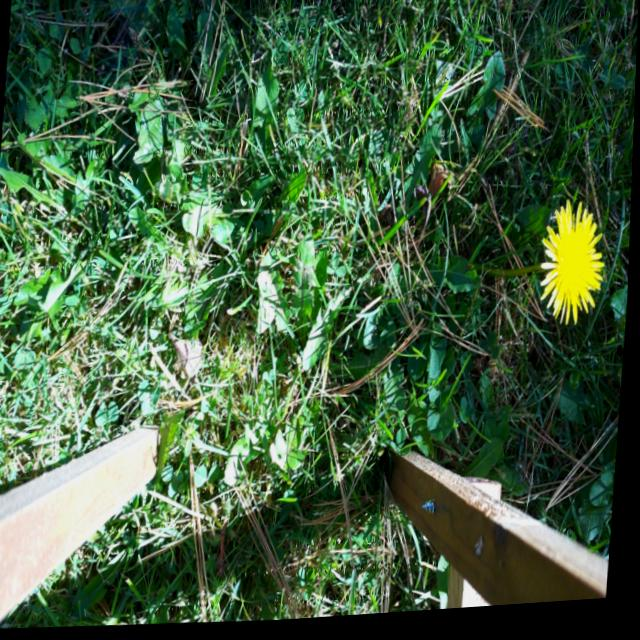base: (475, 255, 496, 293)
flower: (542, 206, 610, 329)
